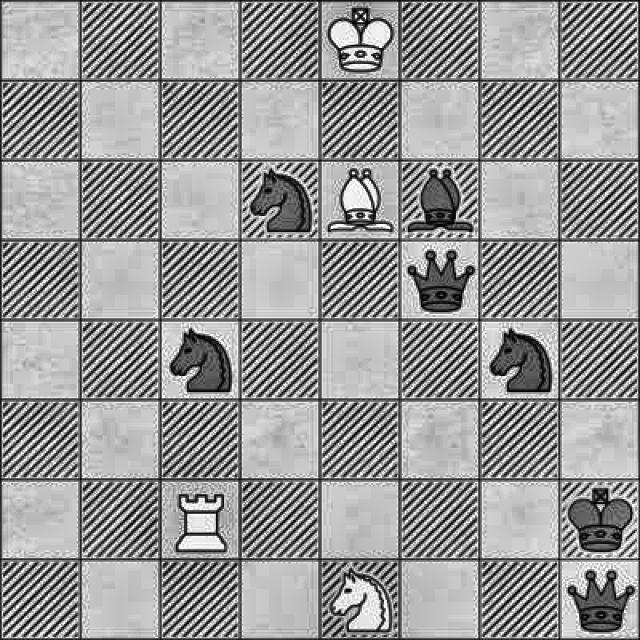Black Knight: (485, 323, 555, 395), (245, 164, 315, 234), (167, 326, 236, 394)
black bishop: (402, 164, 477, 237)
black king: (563, 481, 635, 555)
black queen: (398, 239, 481, 322), (562, 562, 640, 640)
white bishop: (326, 163, 394, 244)
white king: (322, 4, 397, 77)
white rook: (170, 492, 235, 554)
whiteknight: (327, 562, 397, 640)
